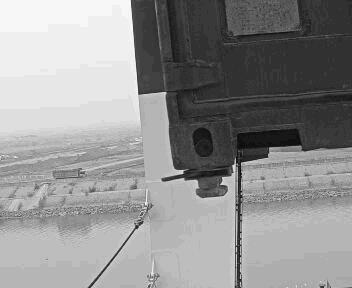twist_lock_1: (156, 163, 224, 205)
